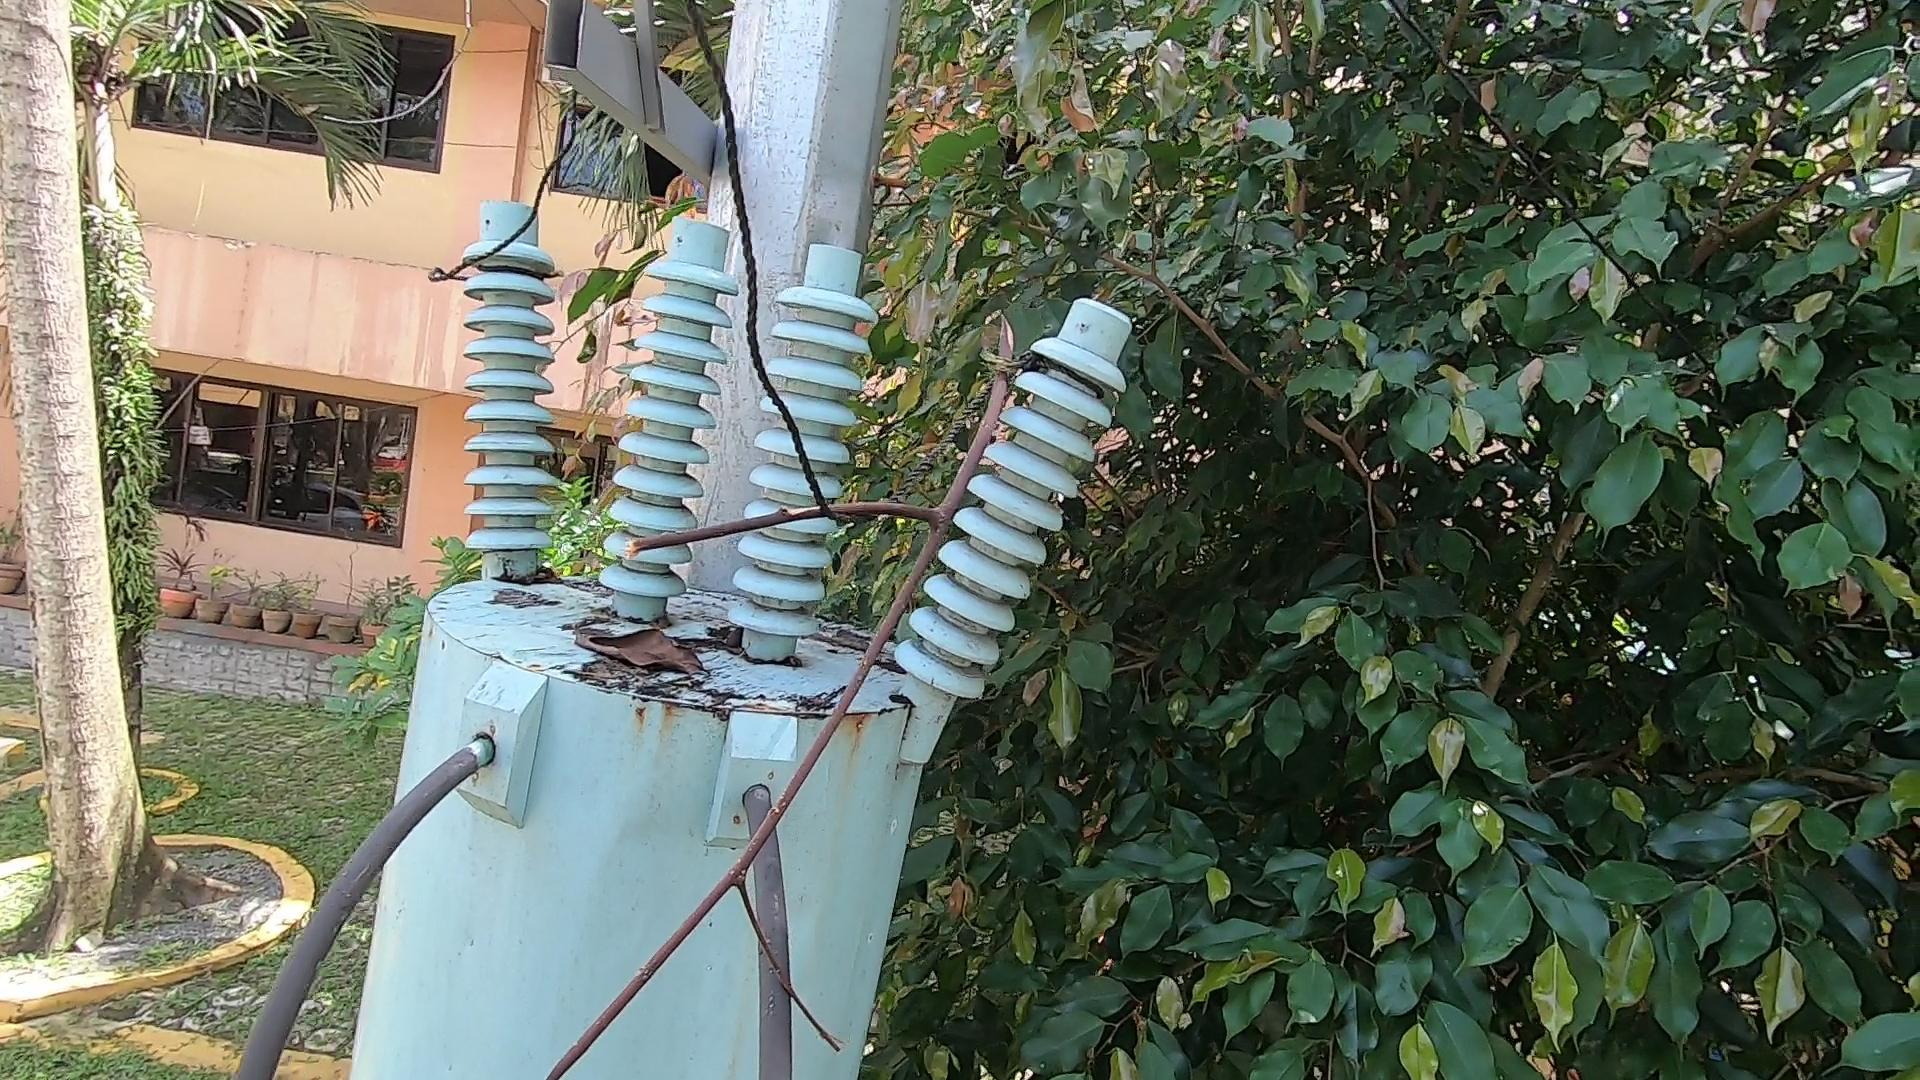leaf: (556, 593, 723, 709)
tree branch: (563, 305, 1044, 1080)
